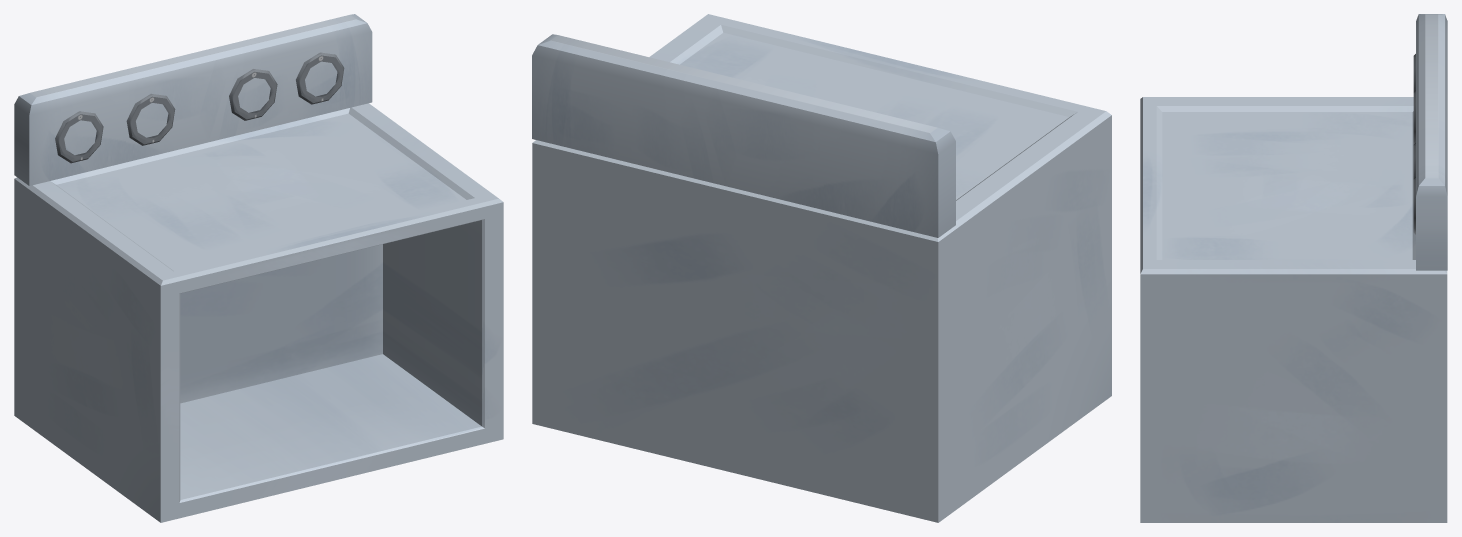
Rendered from Stove.fbx.
3 renders of one model, left to right at view 1: azimuth 30°, elevation 25°; view 2: azimuth 150°, elevation 25°; view 3: azimuth 270°, elevation 25°, orthographic. The views are drawn at different scales.
Visible parts, largest first — view 1: Stove; view 2: Stove; view 3: Stove.
Part boxes in pixels (<box>): Stove: <box>14,14,503,522</box>; Stove: <box>532,14,1111,522</box>; Stove: <box>1140,14,1447,522</box>.
Bounding box in the file's own units: 115 × 103 × 84.99.
